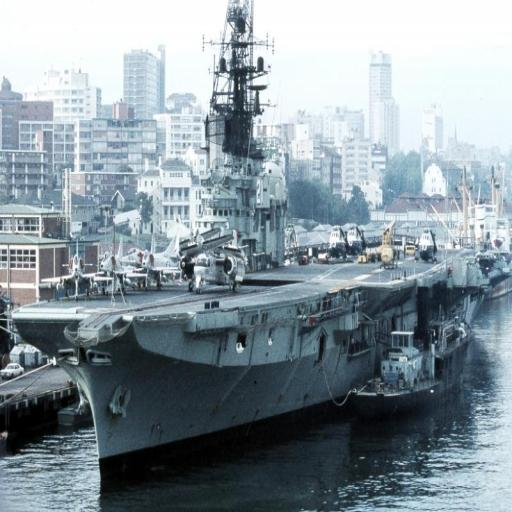Portanaves: (10, 39, 501, 494)
